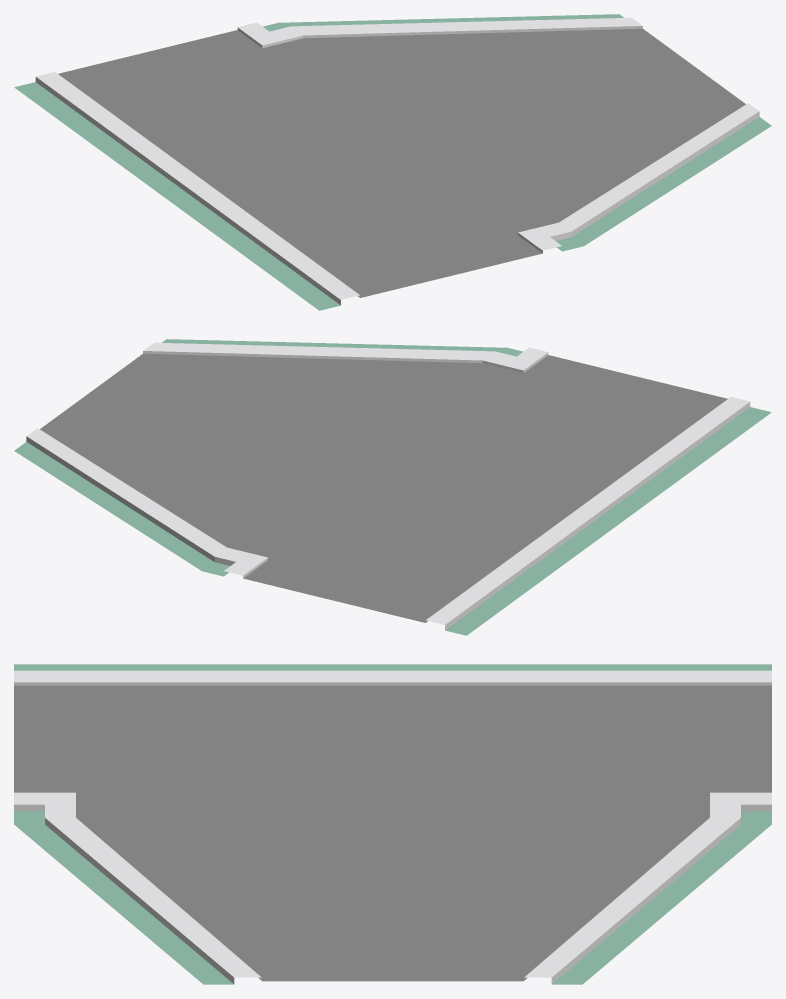
The model's file is roadSide.glb.
3 views of the same model, one above another, from view 1: azimuth 30°, elevation 25°; view 2: azimuth 150°, elevation 25°; view 3: azimuth 270°, elevation 25° (orthographic). The views are drawn at different scales.
Visible parts, largest first — view 1: roadSide(Clone); view 2: roadSide(Clone); view 3: roadSide(Clone).
Part boxes in pixels (<box>): roadSide(Clone): <box>14,14,771,310</box>; roadSide(Clone): <box>14,339,771,635</box>; roadSide(Clone): <box>14,664,771,984</box>.
Size of the model in its own units: 2 by 0.02 by 2.
